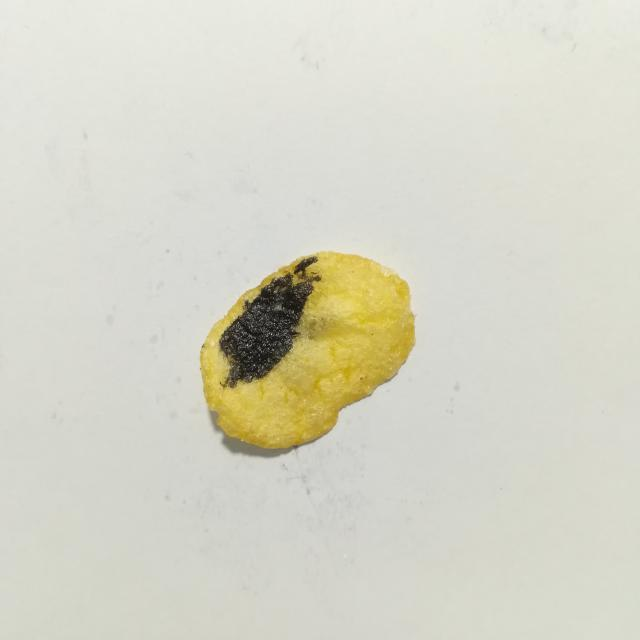chip: (200, 252, 415, 448)
damaged: (219, 256, 321, 388)
semi-damaged: (294, 310, 327, 342)
